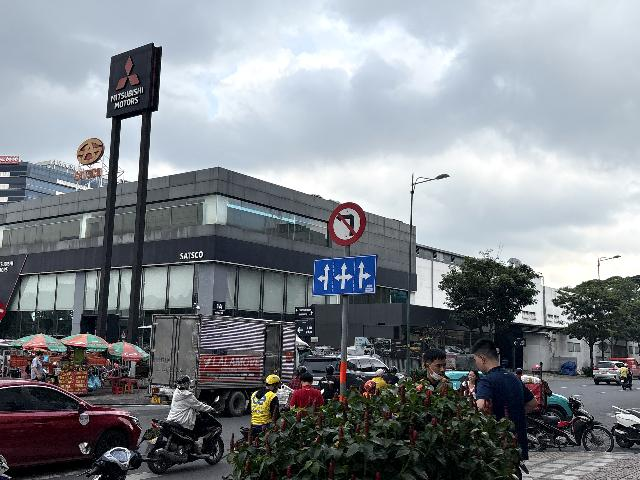cam-re-trai: (329, 202, 366, 247)
